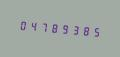eight: (47, 18, 56, 36), (77, 21, 86, 39)
five: (87, 22, 96, 40)
four: (27, 17, 36, 34)
nine: (57, 19, 66, 37)
seven: (37, 18, 46, 35)
three: (67, 20, 76, 38)
zero: (17, 16, 26, 34)
